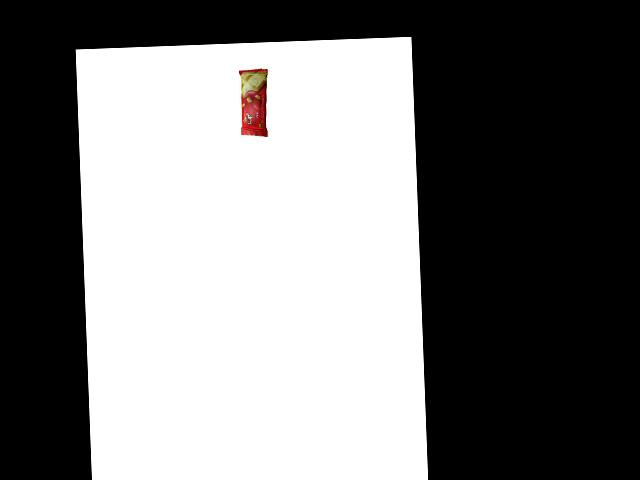chocolate: (236, 68, 274, 142)
